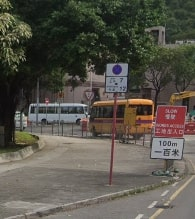Start Of No Stopping: (103, 63, 130, 95)
